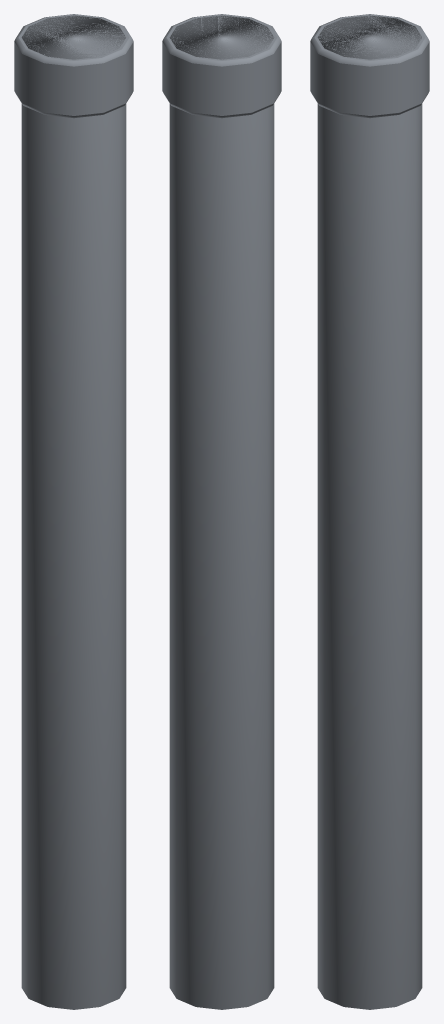
Rendered from pipe_segment.fbx.
3 renders of one model, left to right at view 1: azimuth 90°, elevation 25°; view 2: azimuth 210°, elevation 25°; view 3: azimuth 270°, elevation 25°, orthographic.
Parts seen in each view (by area): view 1: pipe_segment; view 2: pipe_segment; view 3: pipe_segment.
Part boxes in pixels (x1,y1,x2,y2): pipe_segment: (14,14,133,1009); pipe_segment: (162,14,281,1009); pipe_segment: (310,14,429,1009).
Size of the model in its own units: 0.114 by 0.114 by 1.
